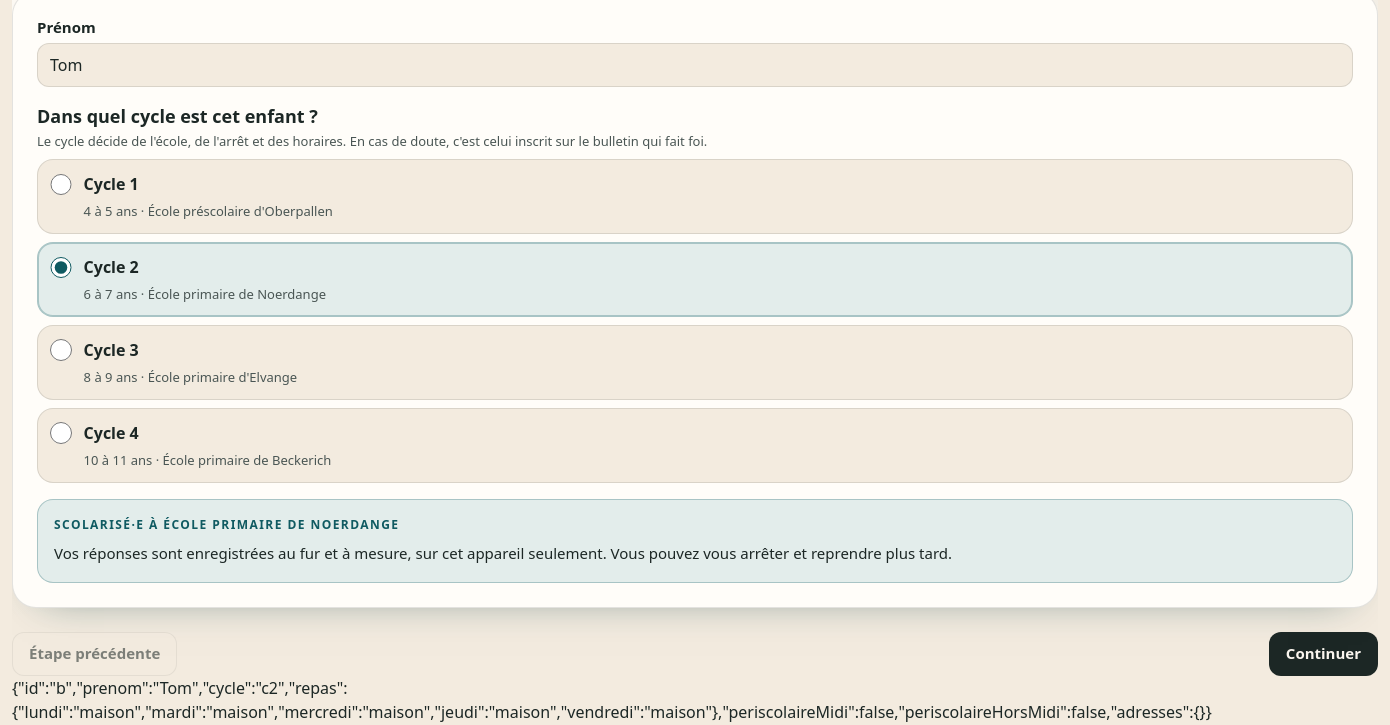
Scenario: adresse du foyer dans l’assistant › devient consultable seulement dès le deuxième enfant
(page scrolled)
What coordinates should you click on to do the following:
click the button "Continuer"
I would click on:
 (1323, 654)
Its box is x1=1269 y1=632 x2=1378 y2=676.
(page scrolled)
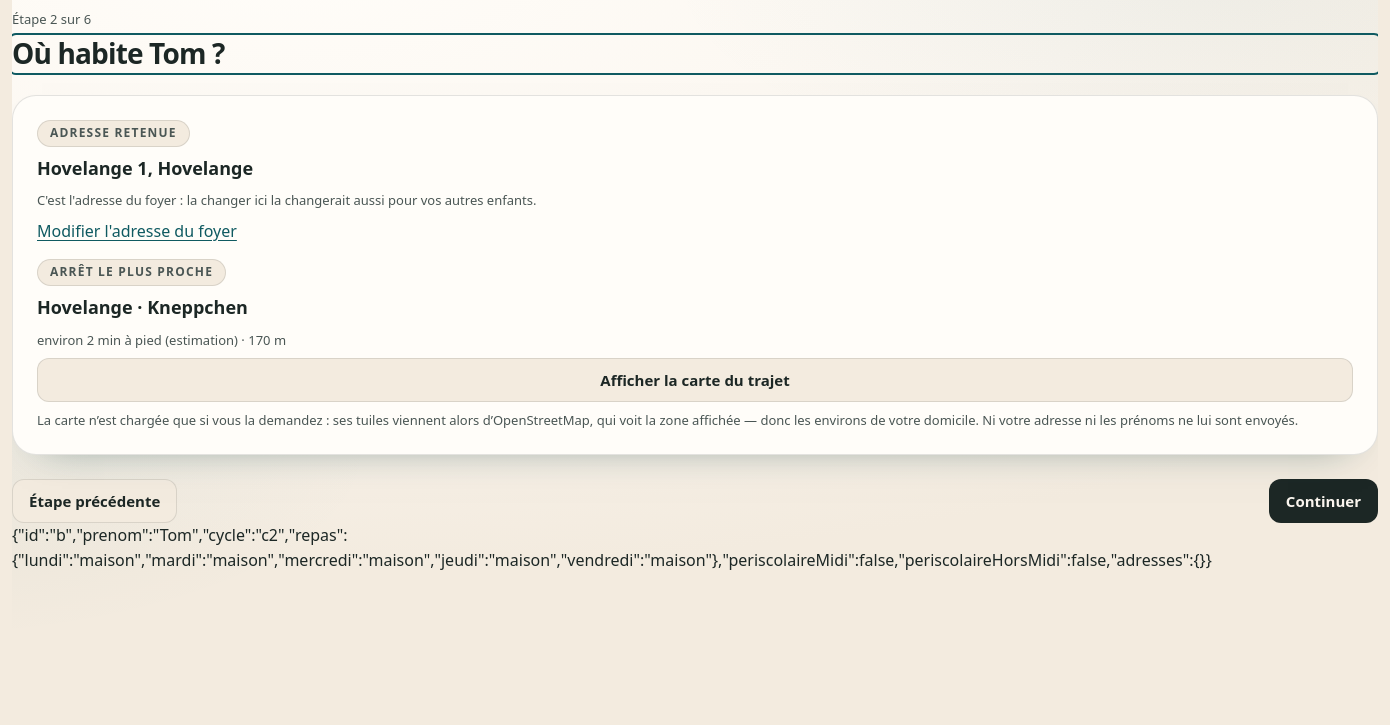
Check: the text "C'est l'adresse du foyer : la changer ici la changerait aussi pour vos autres enfants." is shown, box x1=37 y1=191 x2=536 y2=209
Check: the link "Modifier l'adresse du foyer" is shown, box x1=37 y1=220 x2=237 y2=242
